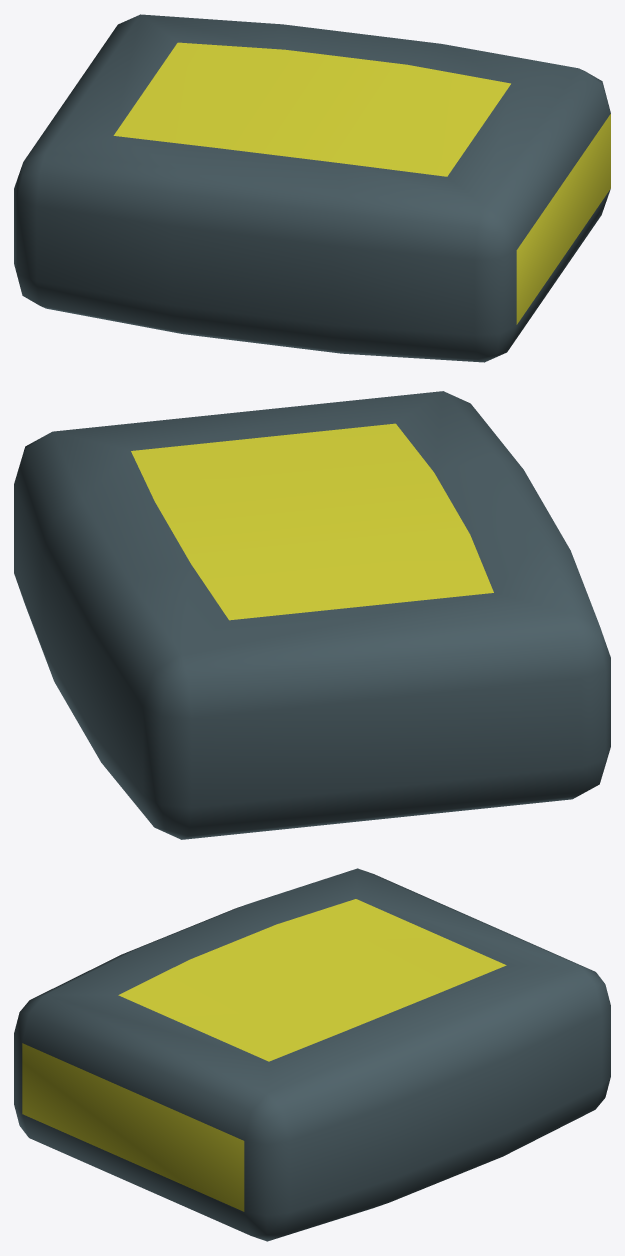
The model's file is GameConsole_05.glb.
3 views of the same model, one above another, from view 1: azimuth 30°, elevation 25°; view 2: azimuth 150°, elevation 25°; view 3: azimuth 270°, elevation 25° (orthographic). The views are drawn at different scales.
Visible parts, largest first — view 1: GameConsole_05; view 2: GameConsole_05; view 3: GameConsole_05.
Part boxes in pixels (x1,y1,x2,y2): GameConsole_05: (14, 14, 610, 362); GameConsole_05: (14, 391, 610, 839); GameConsole_05: (14, 868, 610, 1241).
Size of the model in its own units: 0.0917 by 0.0266 by 0.0922.
Materials: 1 (1 with a texture image).
